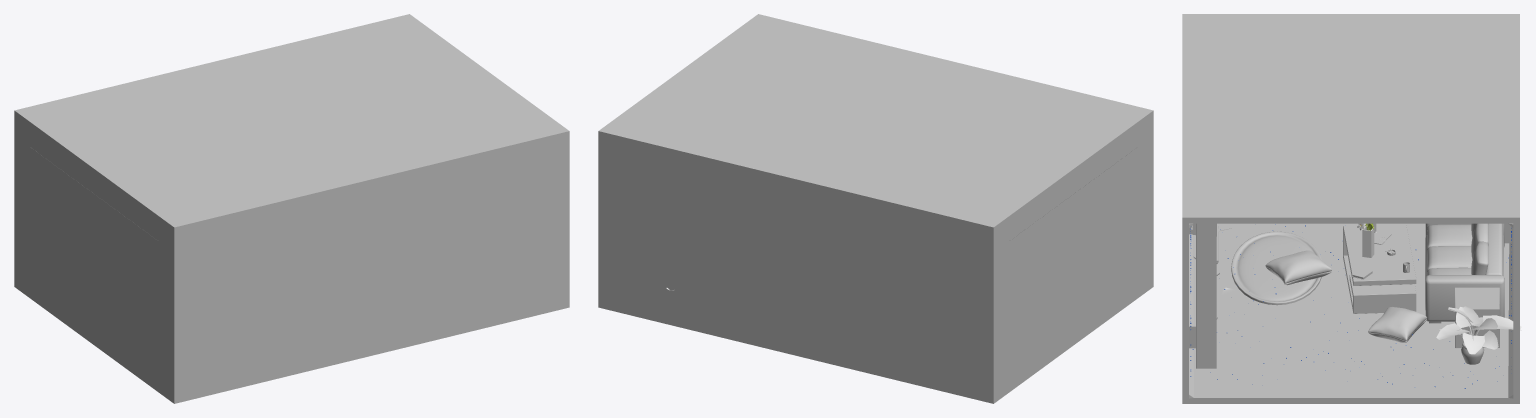
File: room.fbx
The picture shows the model from 3 angles, left to right: view 1: azimuth 30°, elevation 25°; view 2: azimuth 150°, elevation 25°; view 3: azimuth 270°, elevation 25°; orthographic projection. The views are drawn at different scales.
Parts seen in each view (by area): view 1: room; view 2: room; view 3: room.
Part boxes in pixels (bbox=[...]): room: bbox=[14, 14, 569, 403]; room: bbox=[598, 14, 1153, 403]; room: bbox=[1182, 14, 1521, 403].
Bounding box in the file's own units: 772 × 327 × 540.
